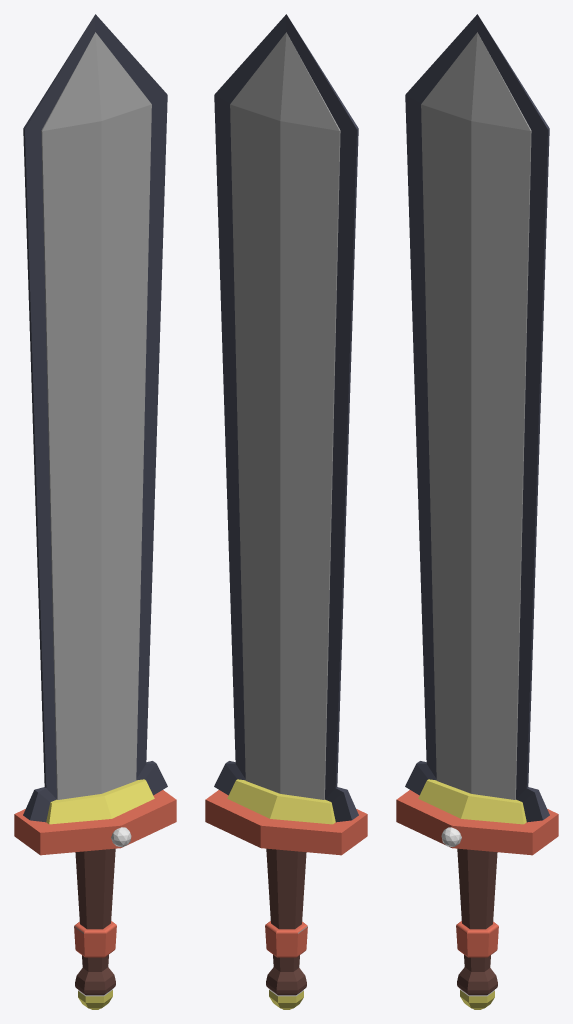
The model's file is sword.fbx.
3 renders of one model, left to right at view 1: azimuth 30°, elevation 25°; view 2: azimuth 150°, elevation 25°; view 3: azimuth 330°, elevation 25°, orthographic.
Visible parts, largest first — view 1: Cylinder; view 2: Cylinder; view 3: Cylinder.
Boxes of the visible parts, x1,y1,x2,y2 form: Cylinder: (14, 14, 176, 1009); Cylinder: (205, 14, 367, 1009); Cylinder: (396, 14, 558, 1009).
Size of the model in its own units: 320 by 2127 by 220.
